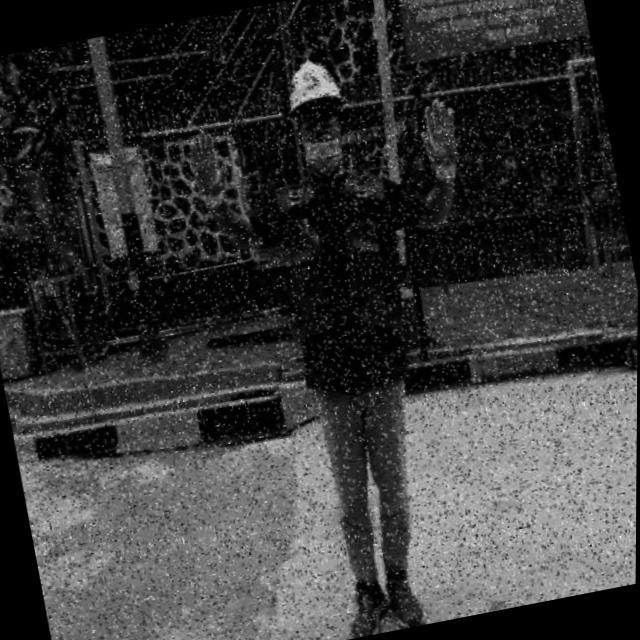goggles_on: (296, 105, 339, 132)
